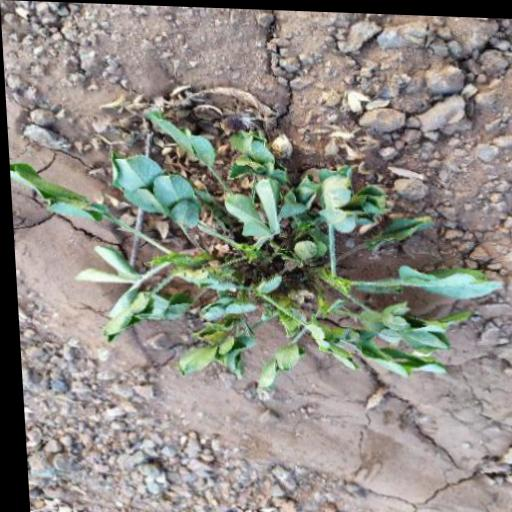weed: (78, 91, 511, 398)
